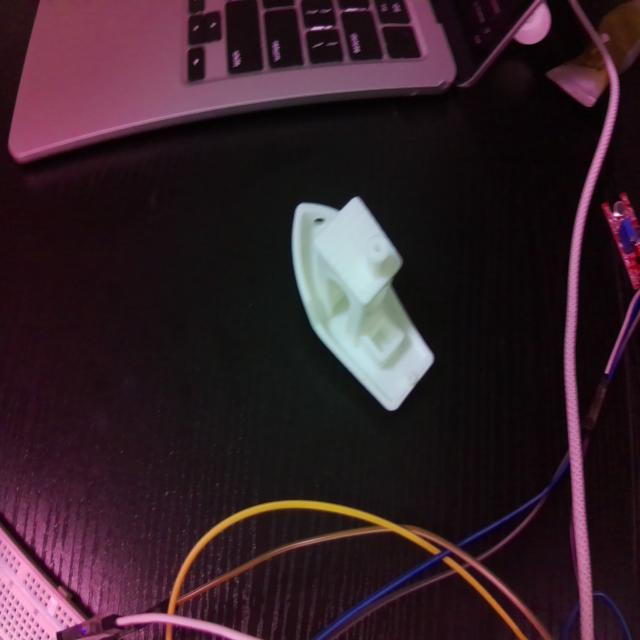ship: (291, 194, 435, 412)
